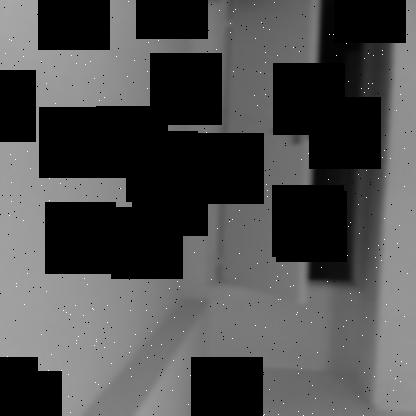Porte: (201, 0, 379, 307)
